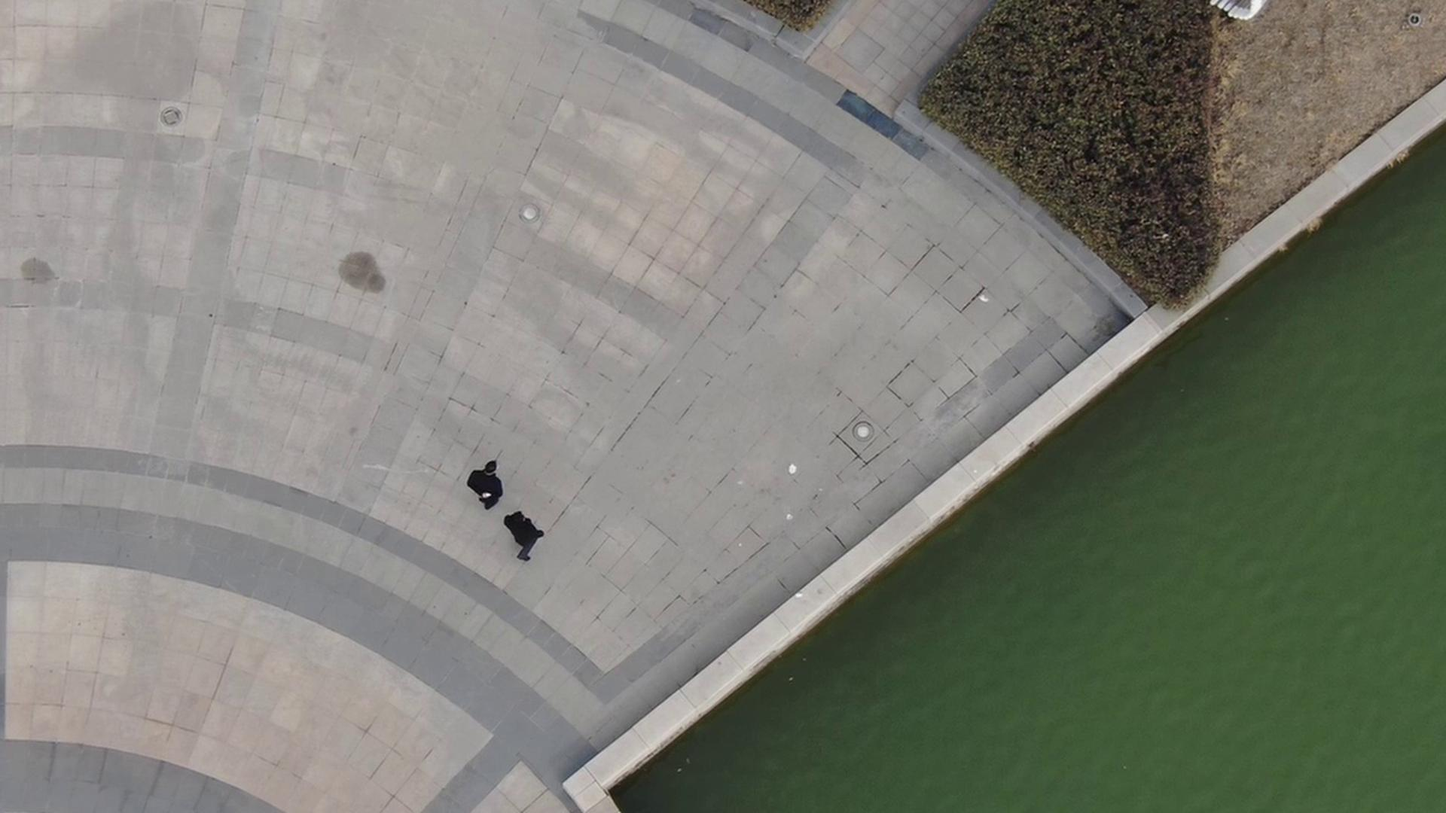human: (499, 497, 548, 571), (455, 451, 502, 516)
